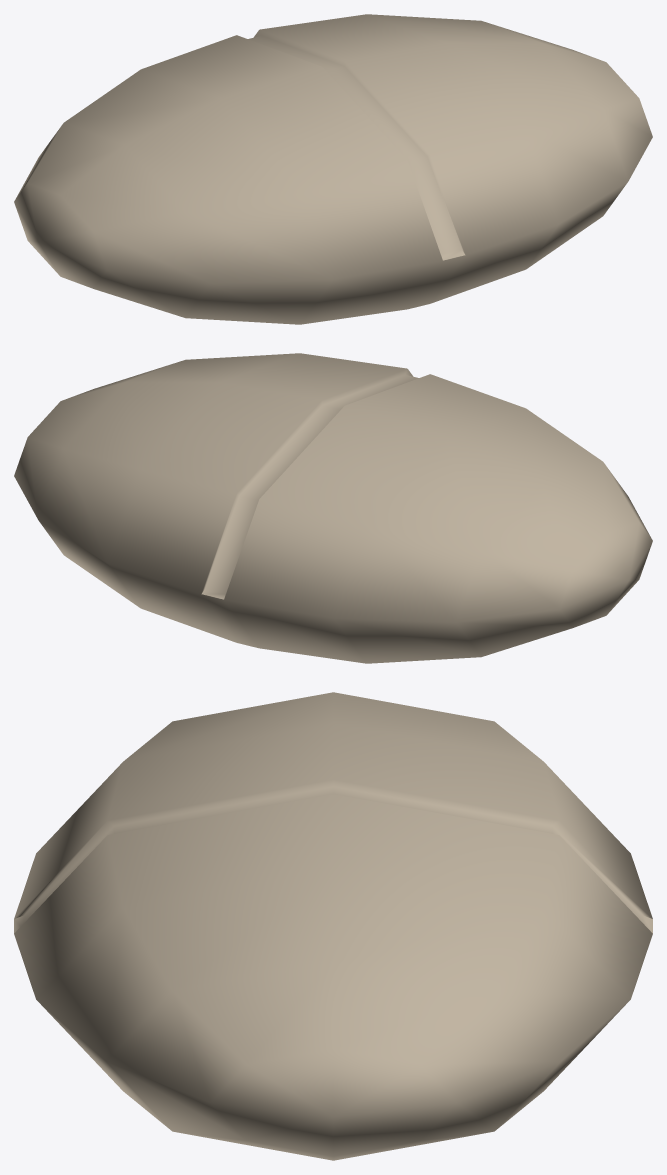
The model's file is tablet.fbx.
3 renders of one model, top to bottom at view 1: azimuth 30°, elevation 25°; view 2: azimuth 150°, elevation 25°; view 3: azimuth 270°, elevation 25°, orthographic. The views are drawn at different scales.
Visible parts, largest first — view 1: tablets1; view 2: tablets1; view 3: tablets1.
Boxes of the visible parts, box(x1,y1,x2,y2) form: tablets1: box(14, 14, 652, 324); tablets1: box(14, 353, 652, 663); tablets1: box(14, 692, 652, 1160).
Bounding box in the file's own units: 200 × 68.29 × 142.
